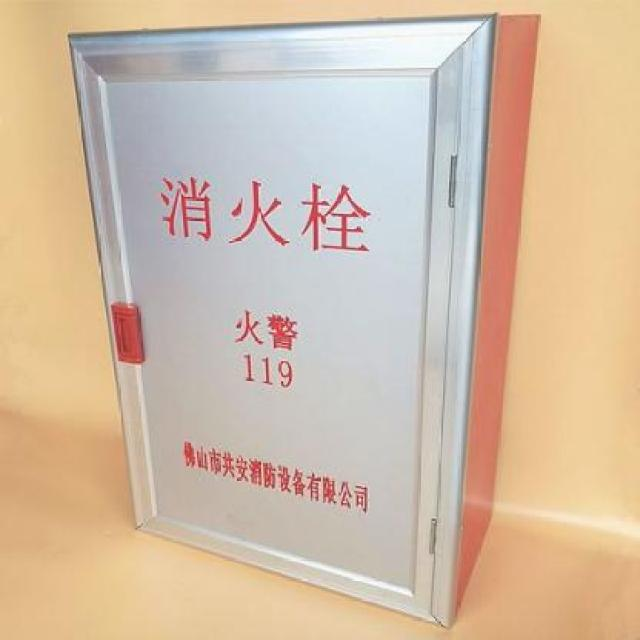firehydrant: (49, 15, 552, 626)
